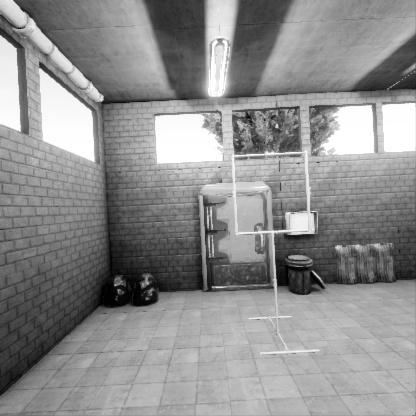gate: (231, 183, 316, 268)
